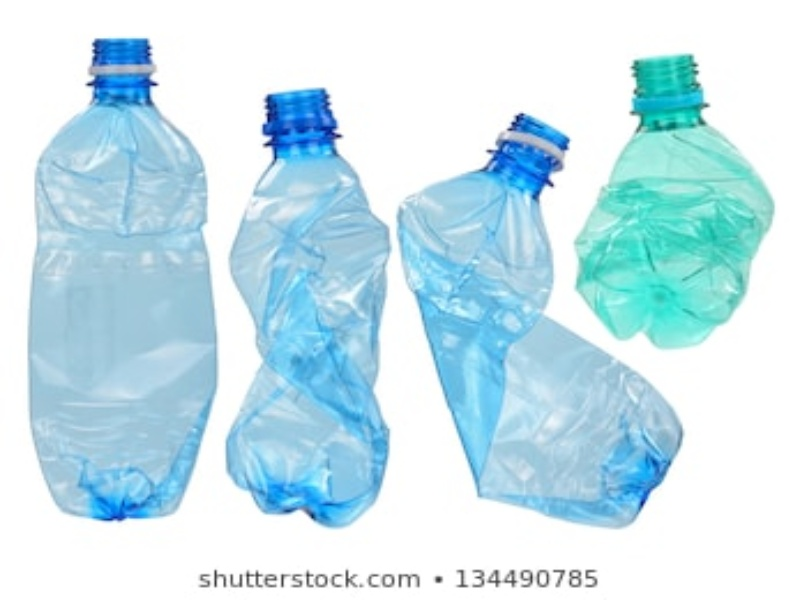plastic-bottle: (386, 104, 690, 536), (21, 31, 223, 522), (223, 74, 400, 537), (570, 44, 780, 355)
